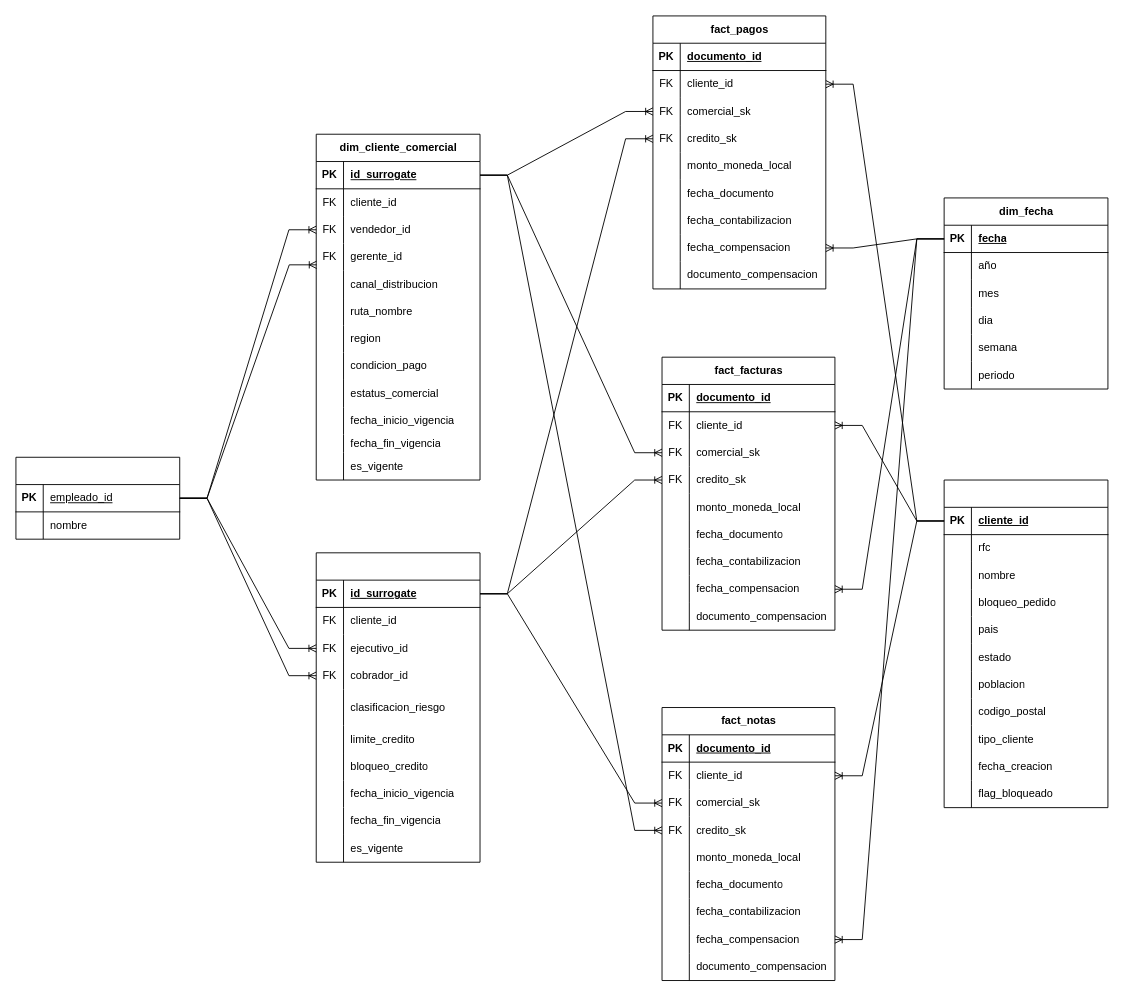
The diagram is 1124 pixels wide and 996 high, and some of its shapes have lost their labels. The shapes that lost their labels are listed below. From the top down, each one's box as (x1, y1, x2, y2) in pixels, then its label:
(15, 456, 180, 539): dim_empleado
(943, 479, 1108, 808): dim_cliente
(315, 552, 480, 862): dim_cliente_credito
